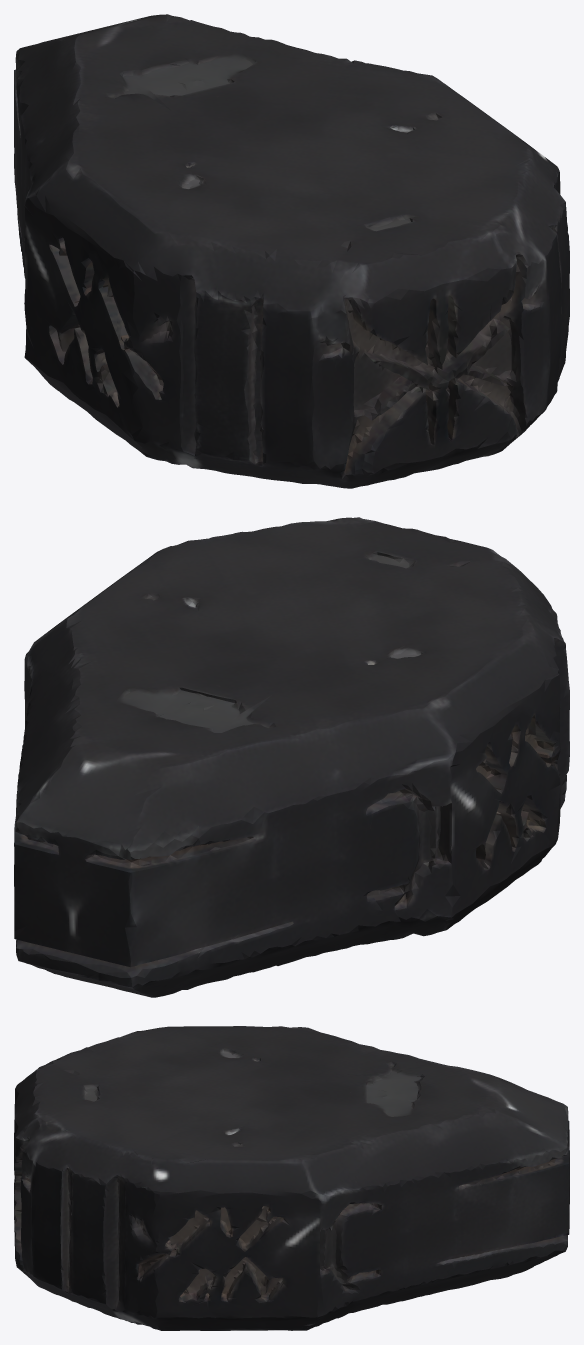
File: rodin_Forge_RuneStele_raw.glb
The picture shows the model from 3 angles, top to bottom: view 1: azimuth 30°, elevation 25°; view 2: azimuth 150°, elevation 25°; view 3: azimuth 270°, elevation 25°; orthographic projection. The views are drawn at different scales.
Parts seen in each view (by area): view 1: model; view 2: model; view 3: model.
Boxes of the visible parts, x1,y1,x2,y2 form: model: [14, 14, 569, 488]; model: [14, 517, 569, 997]; model: [14, 1026, 569, 1330].
Size of the model in its own units: 1.26 by 0.628 by 1.89.
Materials: 1 (1 with a texture image).
